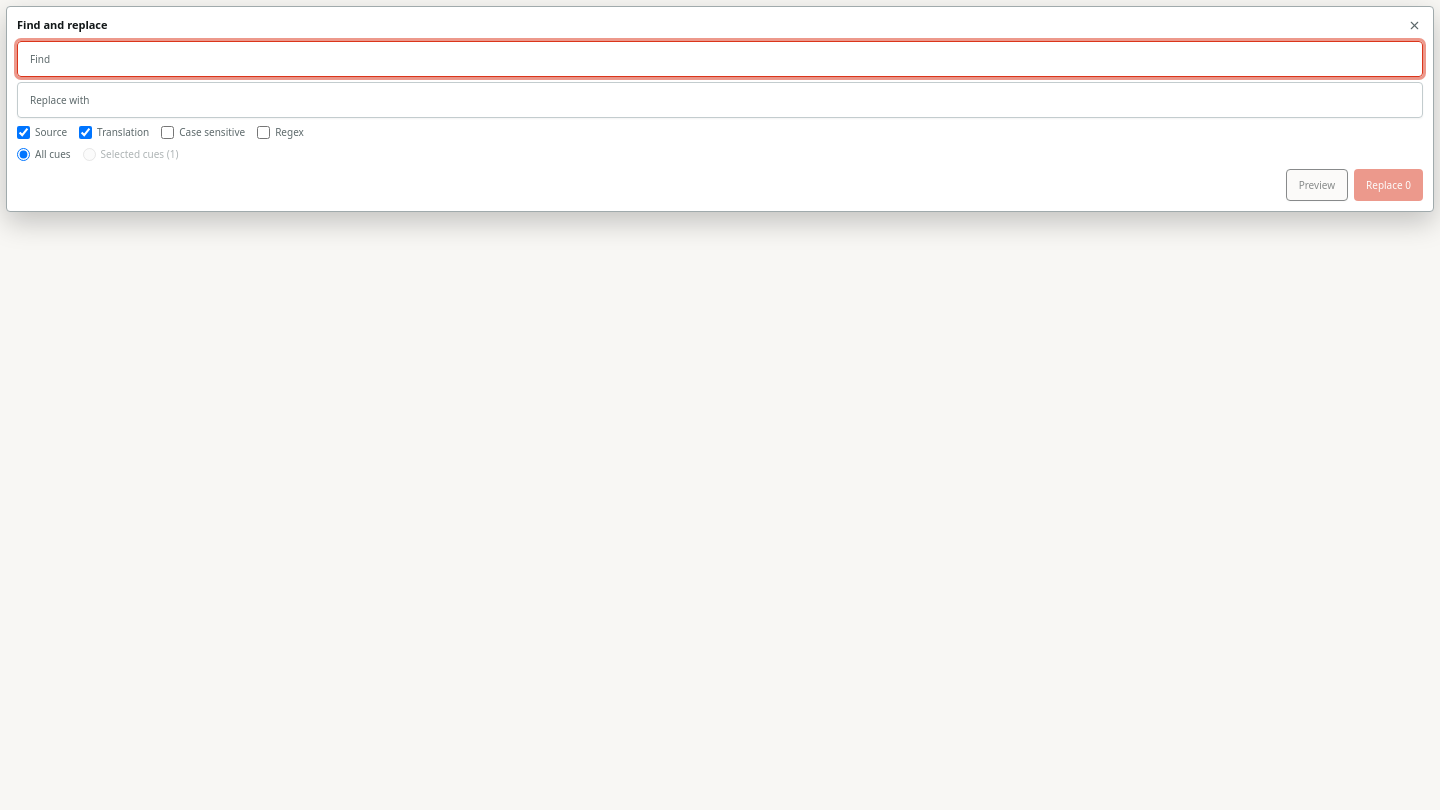
Test: FindReplacePanel › invalidates the preview when any field changes
Type "world" into the field labelled "Find" at (720, 59), box [17, 41, 1423, 77]
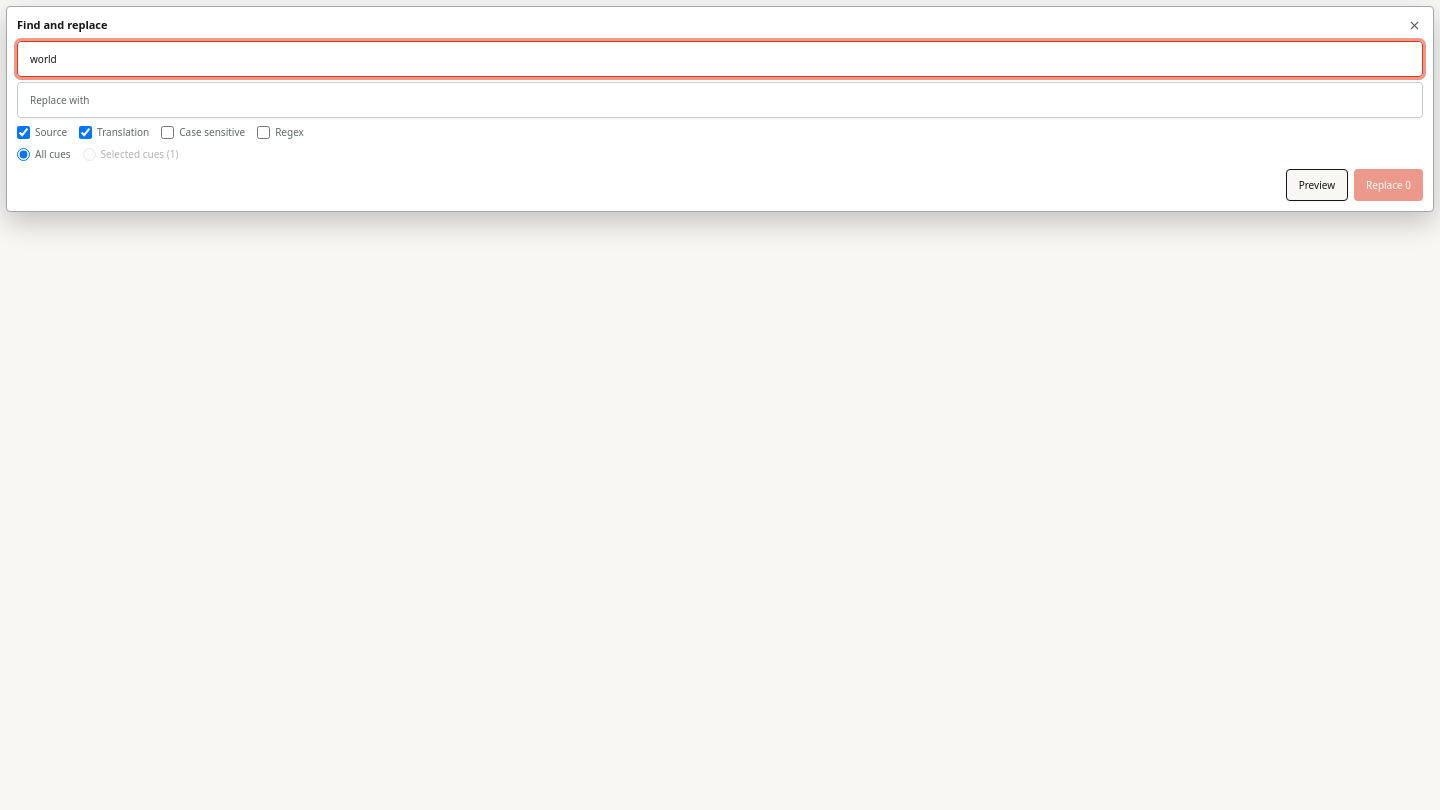
Click the button "Preview" at (1317, 185), box [1286, 169, 1348, 201]
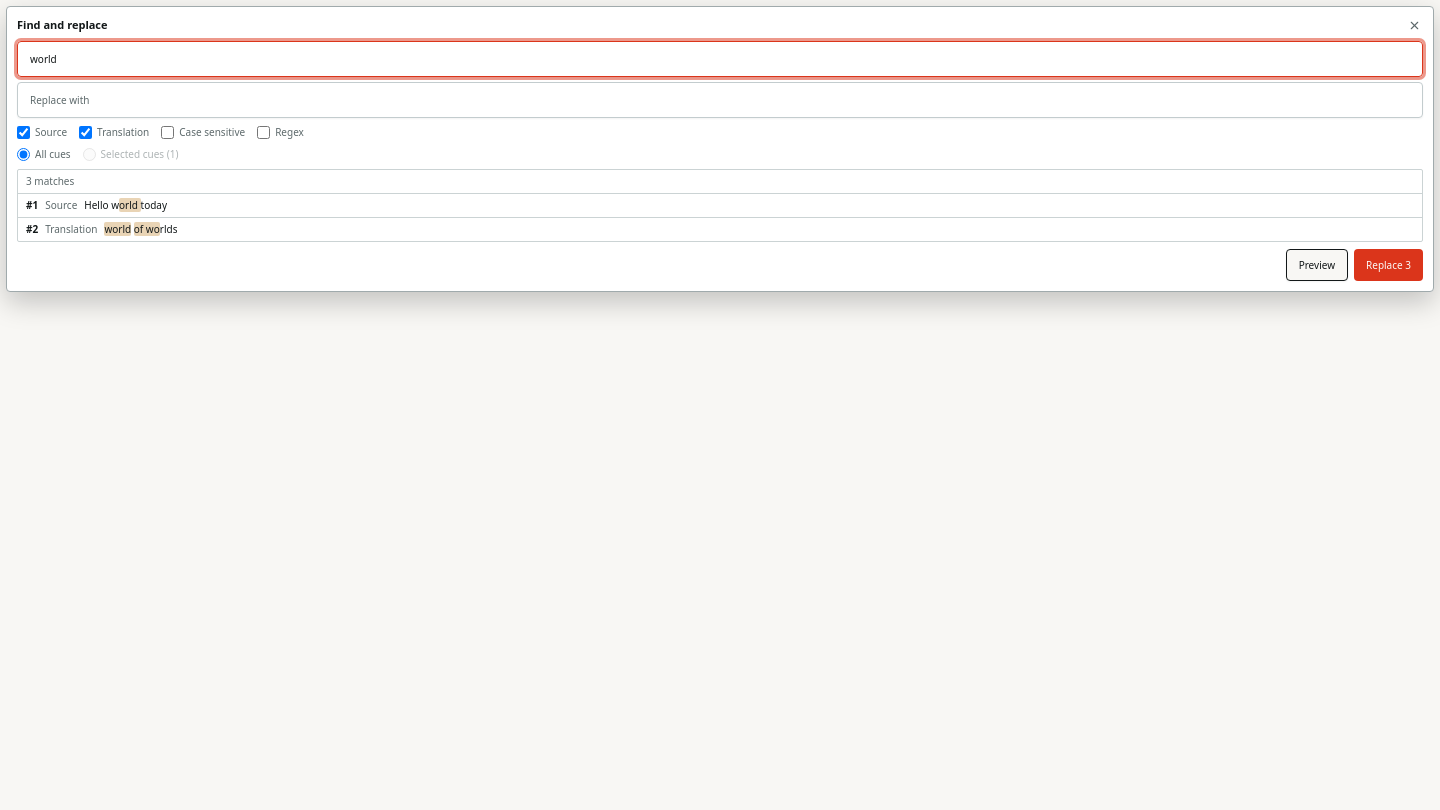
Expected: the text "3 matches" is shown, [18, 170, 1422, 194]
Click the checkbox labelled "Regex" at (264, 132), box [257, 126, 270, 139]
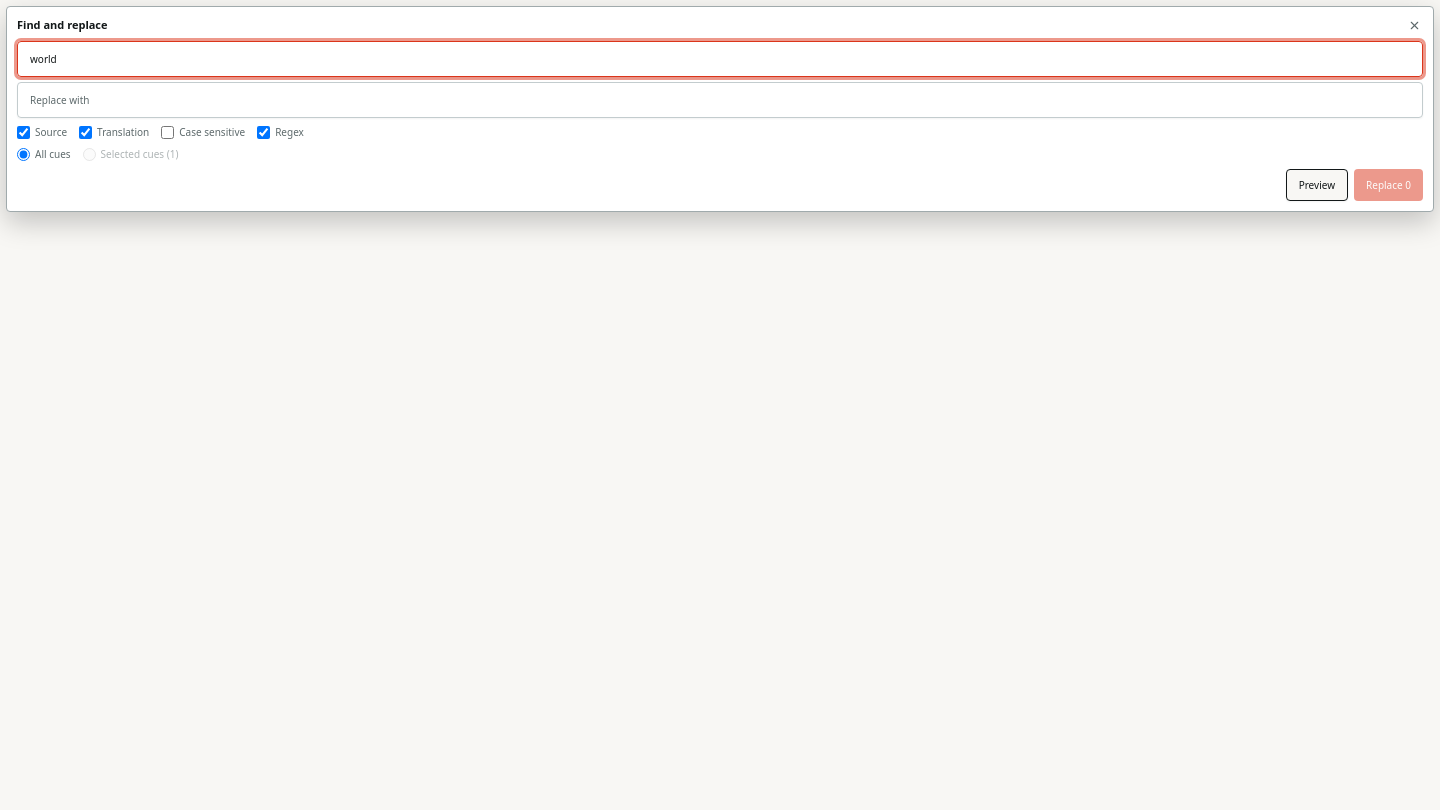
Expected: the text "3 matches" is gone
Expected: the button "Replace 0" is disabled, [1354, 169, 1423, 201]
